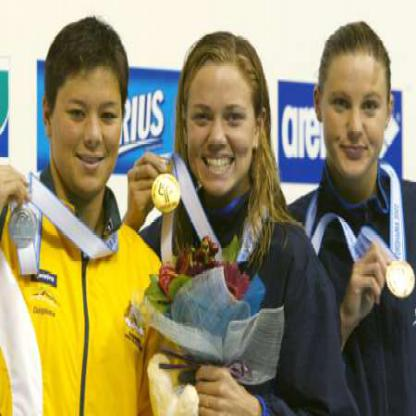face: (53, 23, 126, 195), (186, 34, 259, 198), (324, 24, 391, 178)
